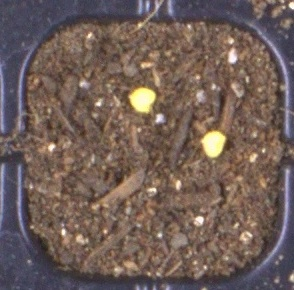chilli seed: (127, 87, 156, 114), (200, 130, 227, 159)
